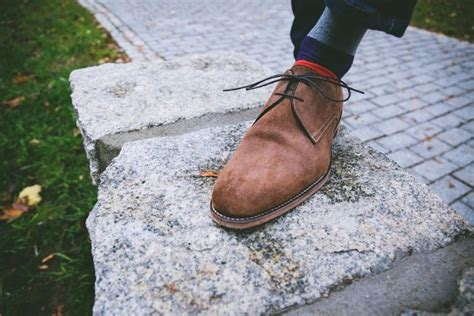gamuza: (210, 65, 343, 220)
